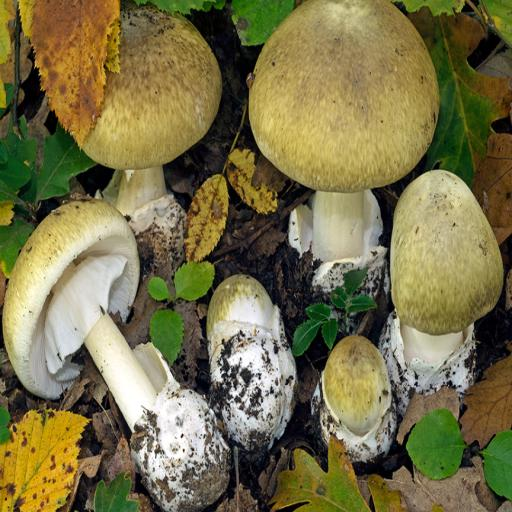Death Cap: (205, 0, 506, 297), (0, 187, 246, 512), (73, 3, 228, 252), (370, 169, 512, 419), (180, 264, 319, 451), (295, 327, 418, 475)
